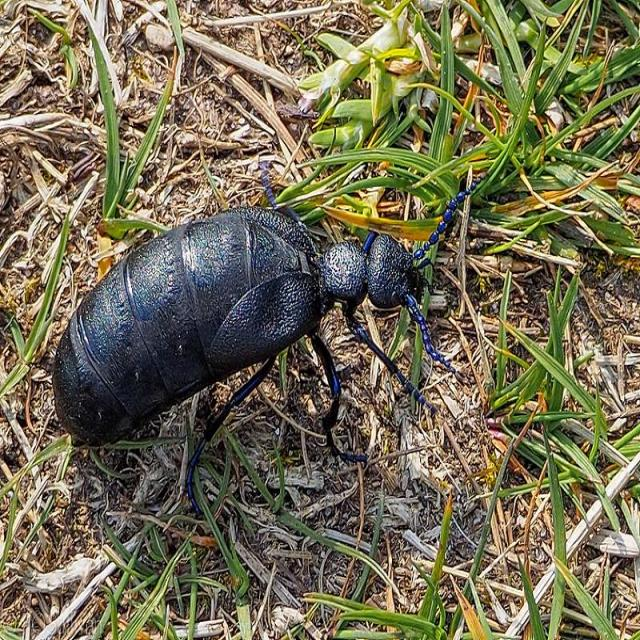BlisterBeetle-Adult-: (10, 162, 486, 499)
